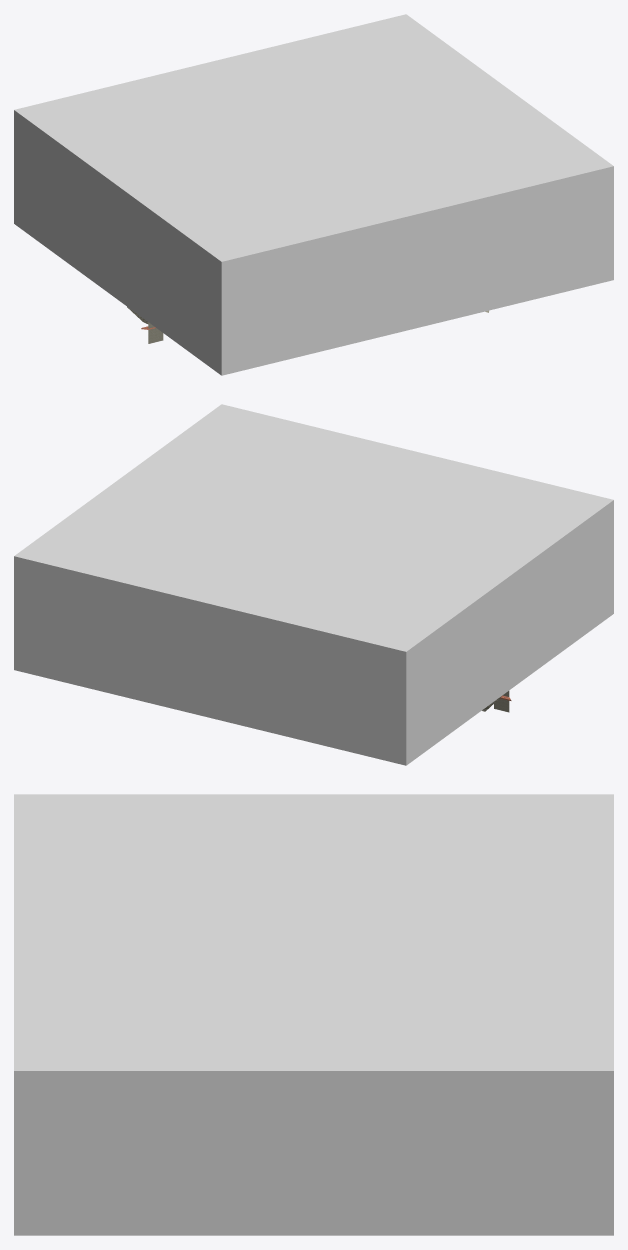
File: BreakBuilding.gltf
3 views of the same model, one above another, from view 1: azimuth 30°, elevation 25°; view 2: azimuth 150°, elevation 25°; view 3: azimuth 270°, elevation 25° (orthographic). The views are drawn at different scales.
Visible parts, largest first — view 1: COL; view 2: COL; view 3: COL.
Part boxes in pixels (x1,y1,x2,y2): COL: [14, 14, 613, 375]; COL: [14, 404, 613, 765]; COL: [14, 794, 613, 1235].
Bounding box in the file's own units: 72.1 × 27.68 × 66.11.
3 materials, 3 textured.
